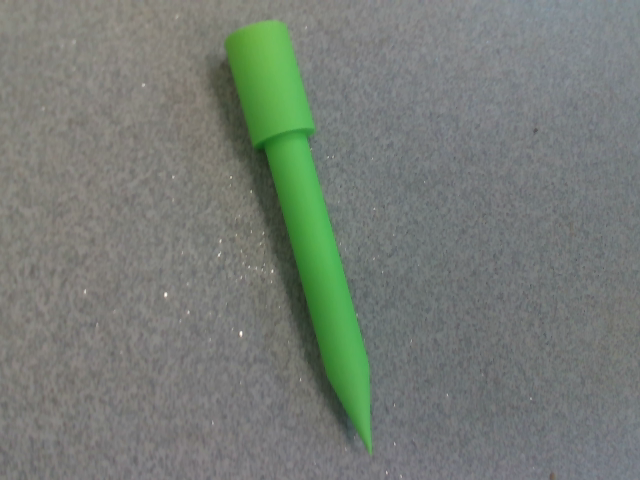Probe: (219, 12, 383, 468)
